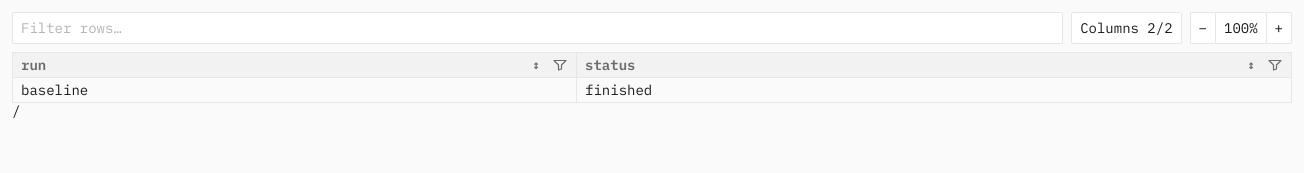
TableView › hides a column through the table-owned Columns menu
Expected: the column heading "status ↕" is shown, [576, 52, 1292, 78]
Click the button titled "Choose, reorder, and freeze columns" at (1126, 28), box [1071, 12, 1182, 44]
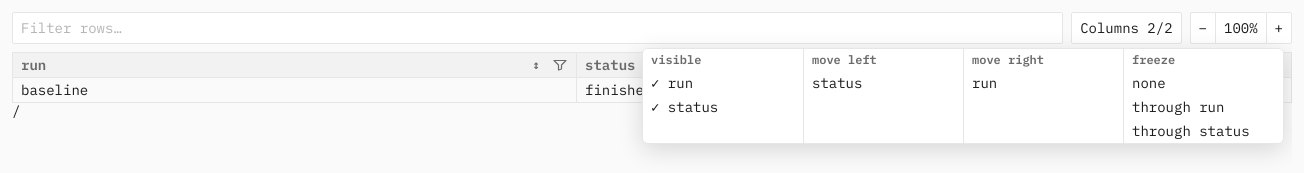
Click the menu item "✓ status" at (685, 107), box [651, 98, 718, 116]
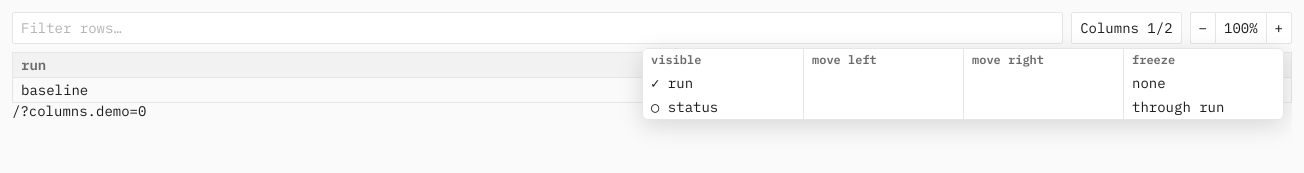
Expected: the text with test id "loc" shows "columns.demo=0", [12, 102, 146, 120]
